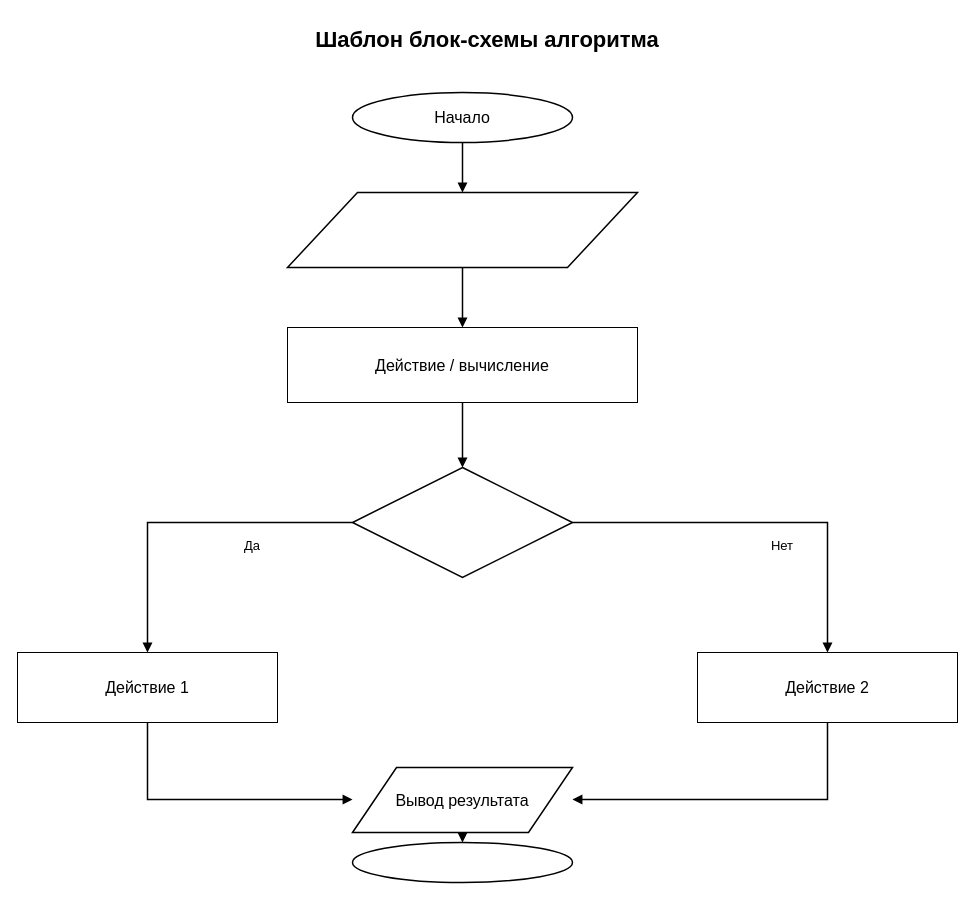
The diagram is 975 pixels wide and 900 high, and some of its shapes have lost their labels. Each missing label, with the box of its shape:
Ввод данных: (286, 191, 638, 268)
Конец: (351, 841, 573, 883)
Условие?: (351, 466, 573, 578)
